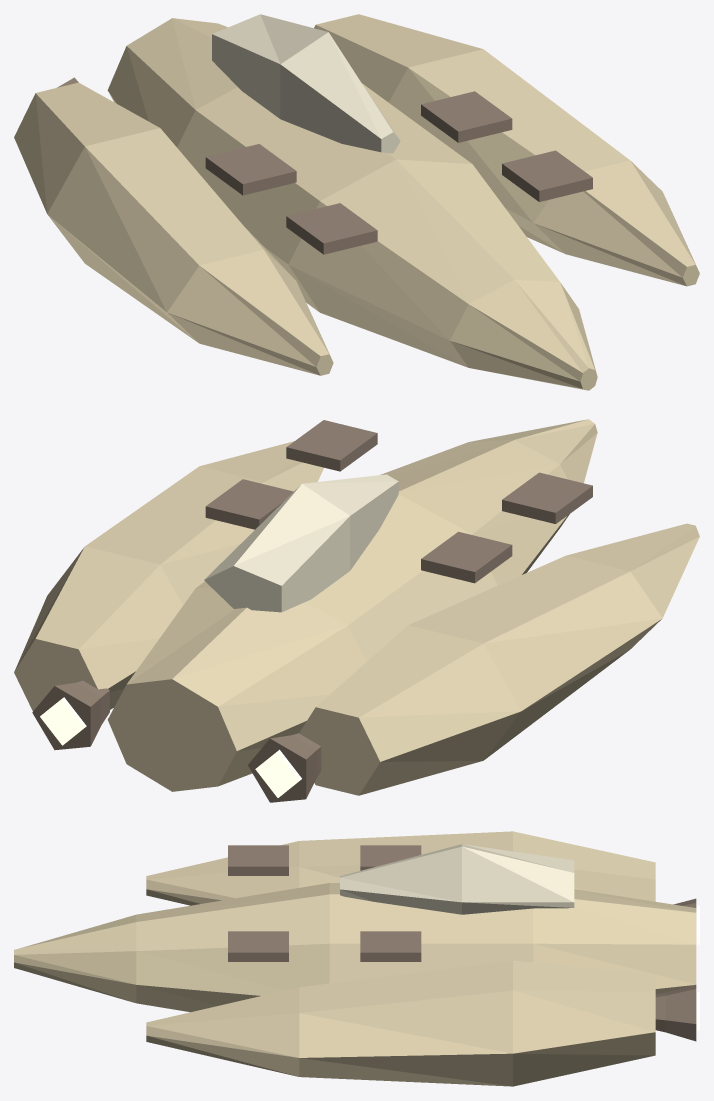
3 views of the same model, one above another, from view 1: azimuth 30°, elevation 25°; view 2: azimuth 150°, elevation 25°; view 3: azimuth 270°, elevation 25° (orthographic). The views are drawn at different scales.
Size of the model in its own units: 9.2 by 3.95 by 13.47.
